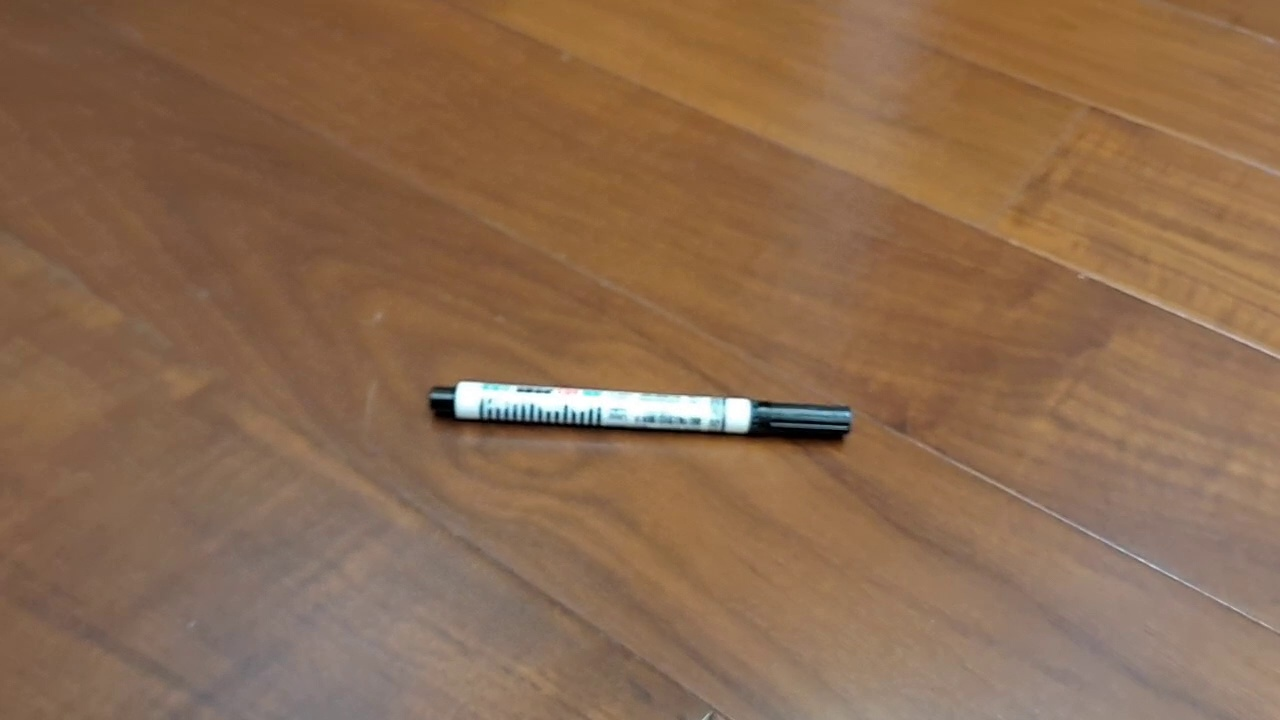pen: (427, 379, 854, 441)
